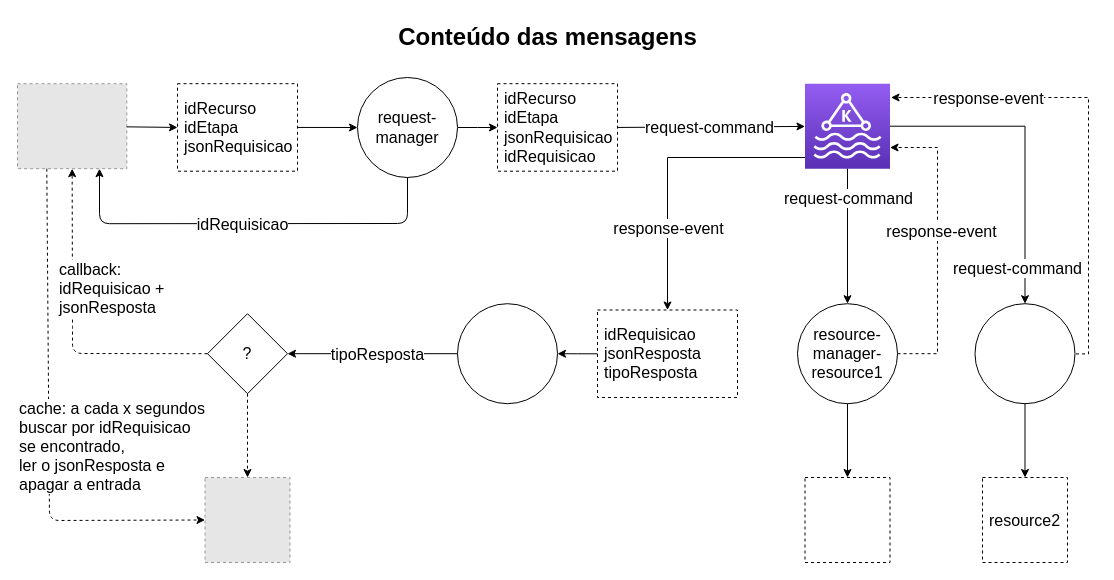
The diagram is 1114 pixels wide and 580 high, and some of its shapes have lost their labels. Grey dashed boxes stand in for pictures. The centre of each missing label's shape, as x and y in pixels:
resource-manager- resource2: pixel 1024 353
resource1: pixel 847 519
response-manager: pixel 507 353
